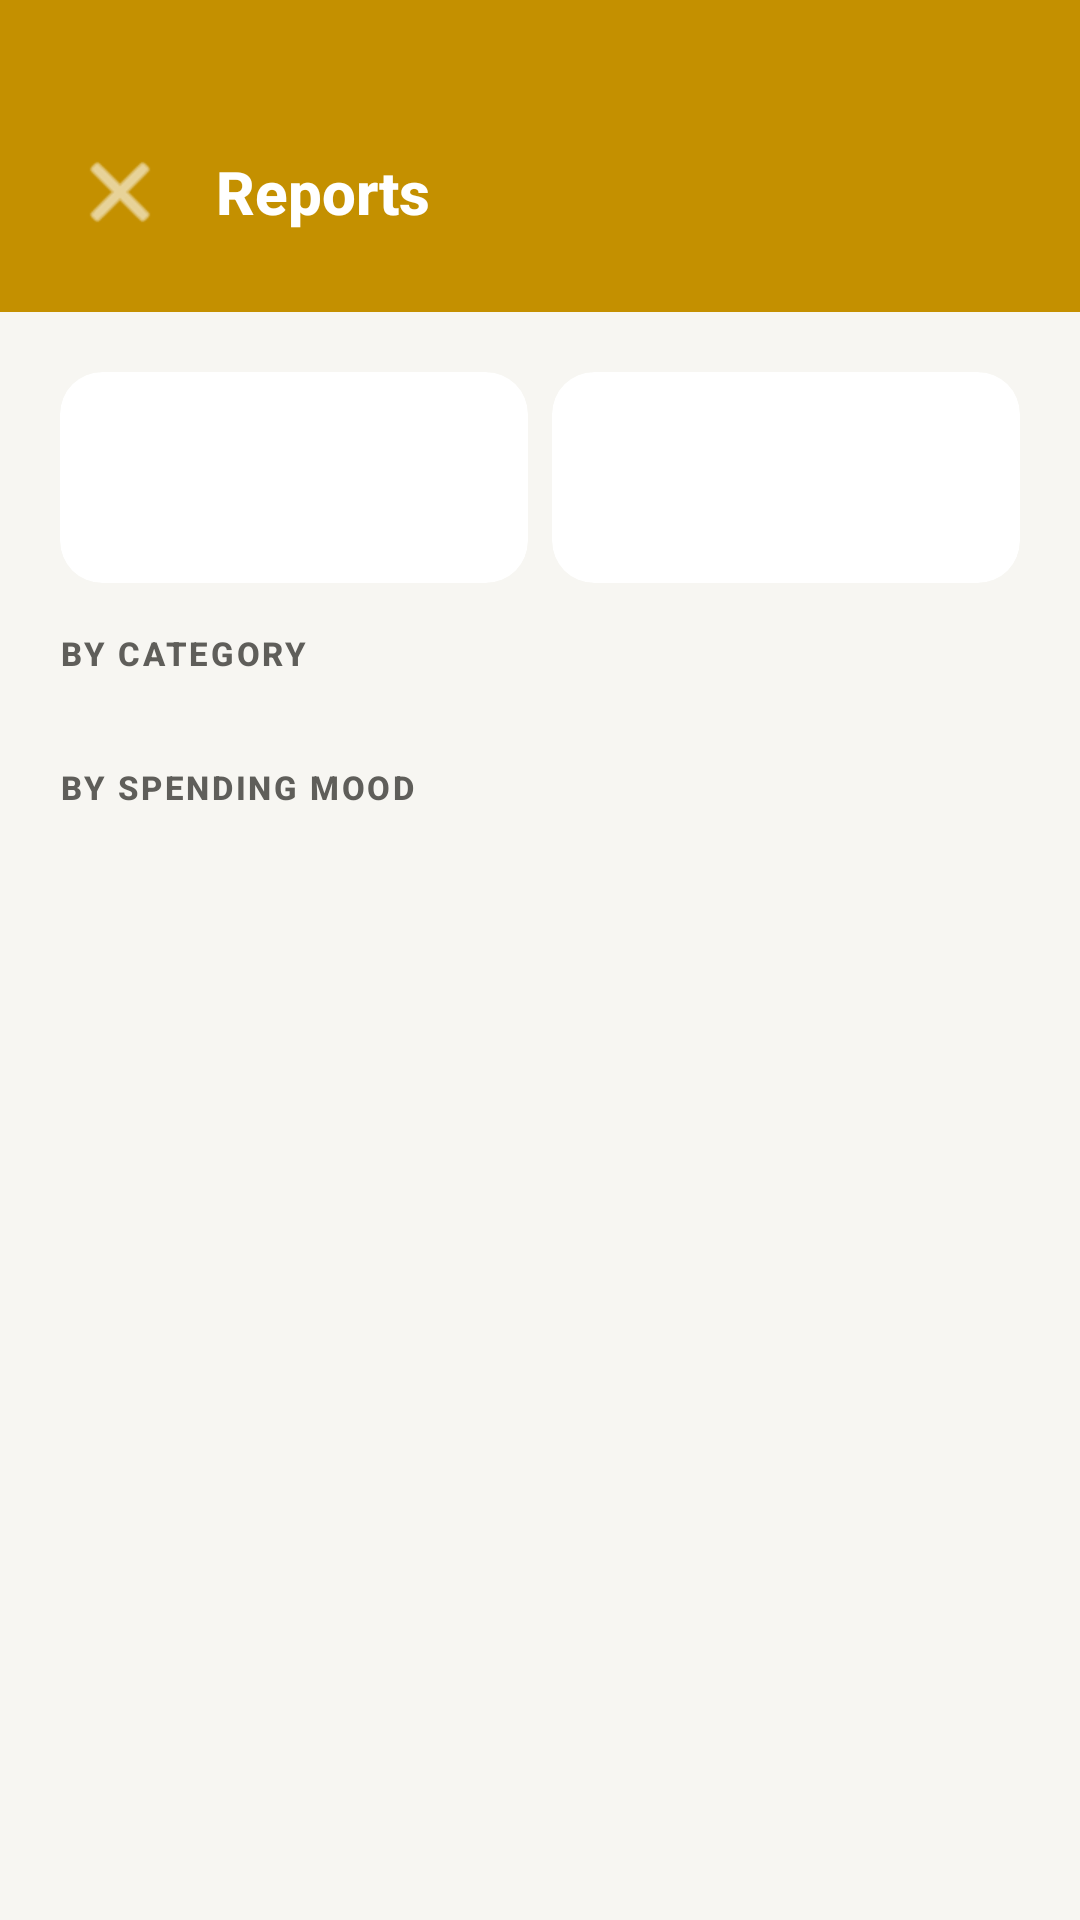

Icons on this 1080×1920 Android screen, each with the point to tap as [x,y]:
close clear cancel: [120,192]
